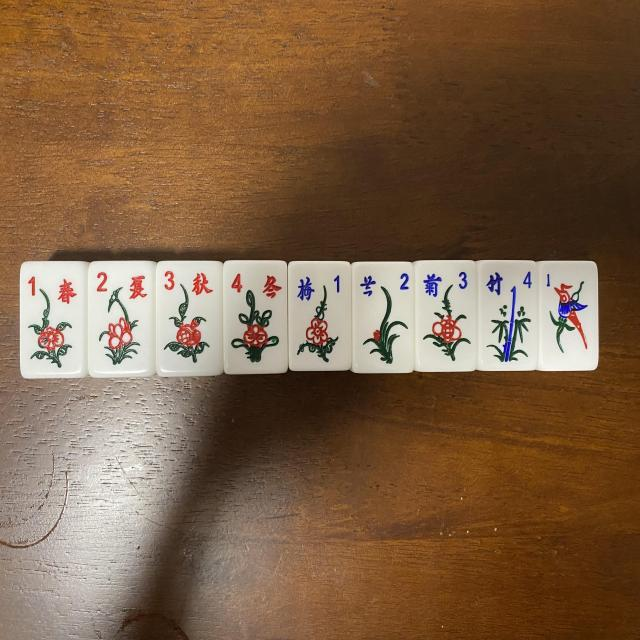bf1: (287, 261, 352, 370)
bf2: (351, 262, 414, 373)
bf3: (414, 260, 477, 372)
bf4: (477, 260, 539, 371)
bs1: (19, 260, 88, 376)
bs2: (88, 261, 156, 377)
bs3: (155, 261, 223, 377)
bs4: (222, 260, 288, 374)
sb1: (538, 261, 598, 371)
